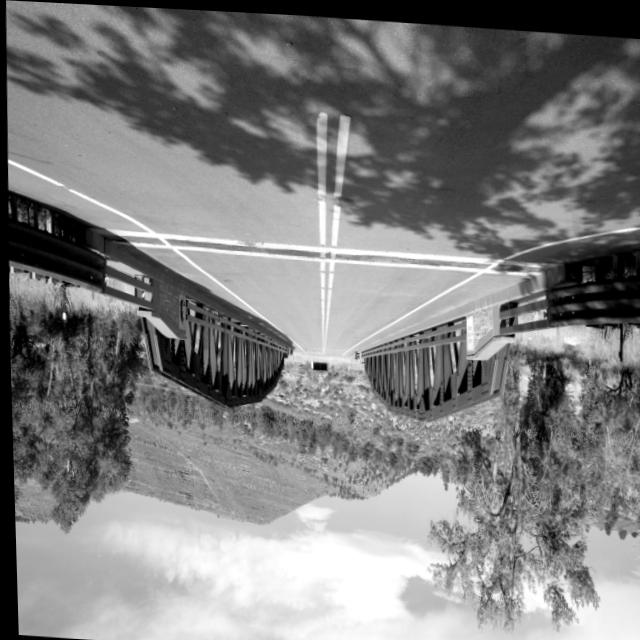cleat: (6, 4, 640, 574)
